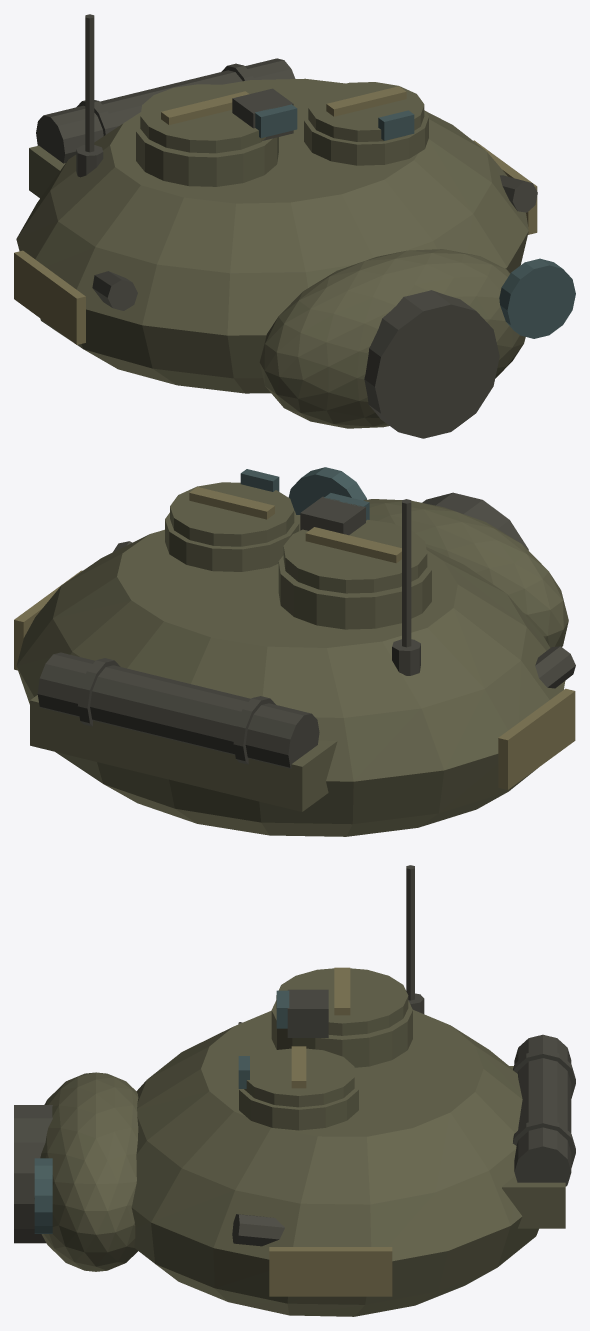
Rendered from Bastion_Turret.obj.
The picture shows the model from 3 angles, top to bottom: view 1: azimuth 30°, elevation 25°; view 2: azimuth 150°, elevation 25°; view 3: azimuth 270°, elevation 25°; orthographic projection. The views are drawn at different scales.
Parts seen in each view (by area): view 1: Bastion_Turret; view 2: Bastion_Turret; view 3: Bastion_Turret.
Boxes of the visible parts, x1,y1,x2,y2 form: Bastion_Turret: (14, 14, 575, 438); Bastion_Turret: (14, 467, 575, 836); Bastion_Turret: (14, 865, 575, 1316).
Size of the model in its own units: 2.29 by 1.52 by 2.47.
1 material, 1 textured.
